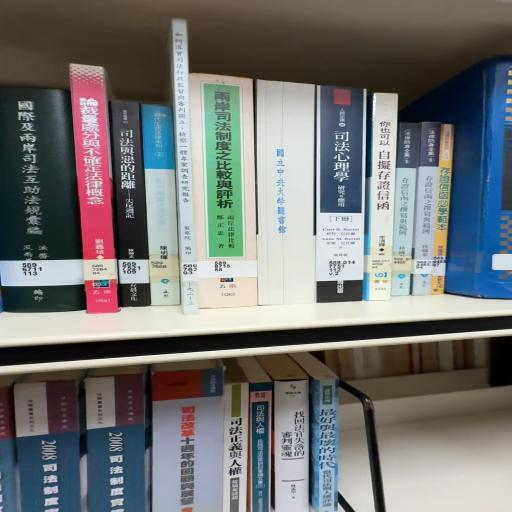backward: (261, 86, 323, 311)
book: (400, 60, 512, 306), (1, 89, 84, 314), (194, 73, 260, 259), (75, 68, 122, 316), (317, 91, 368, 309), (273, 381, 311, 512), (308, 377, 340, 512), (394, 124, 422, 264), (251, 384, 276, 512)
